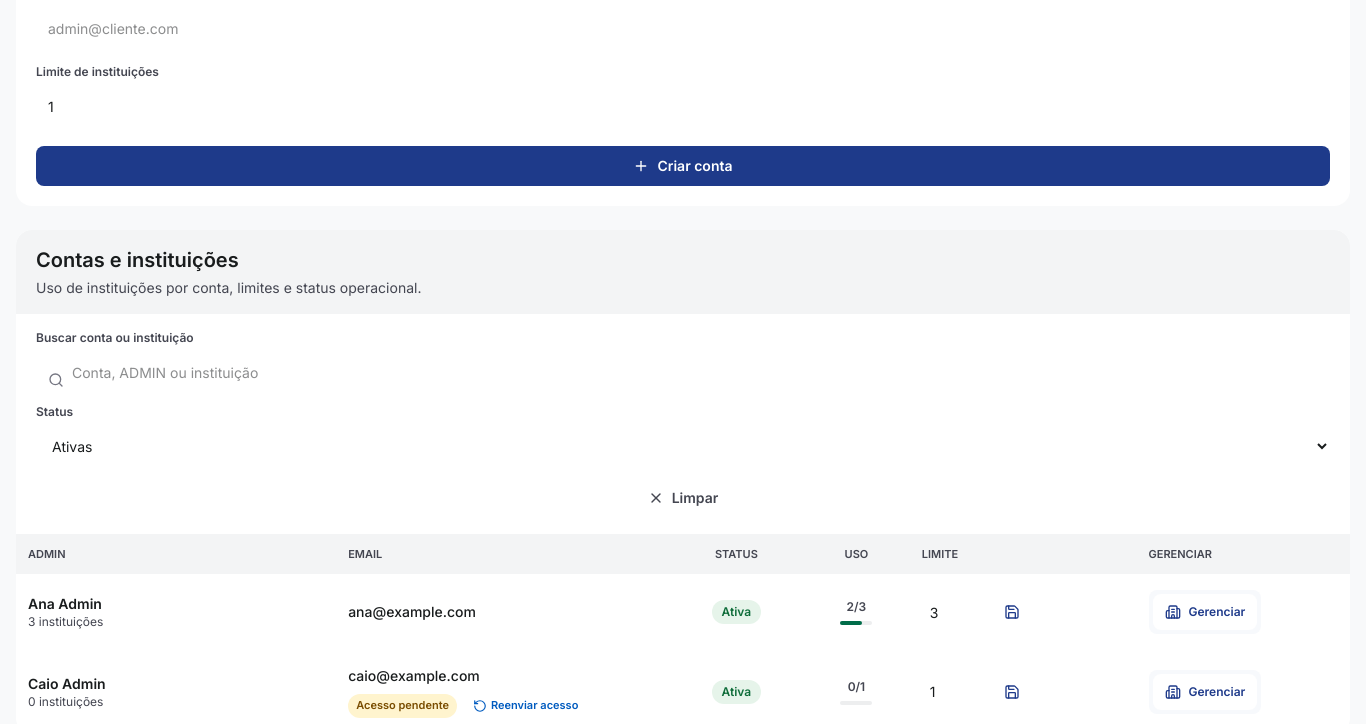
Test: PlatformPage › permite reenviar somente o acesso pendente sem criar outra conta
(page scrolled)
Click the button with aria-label "Reenviar acesso de Conta Gama" at (526, 706), box [465, 694, 586, 718]
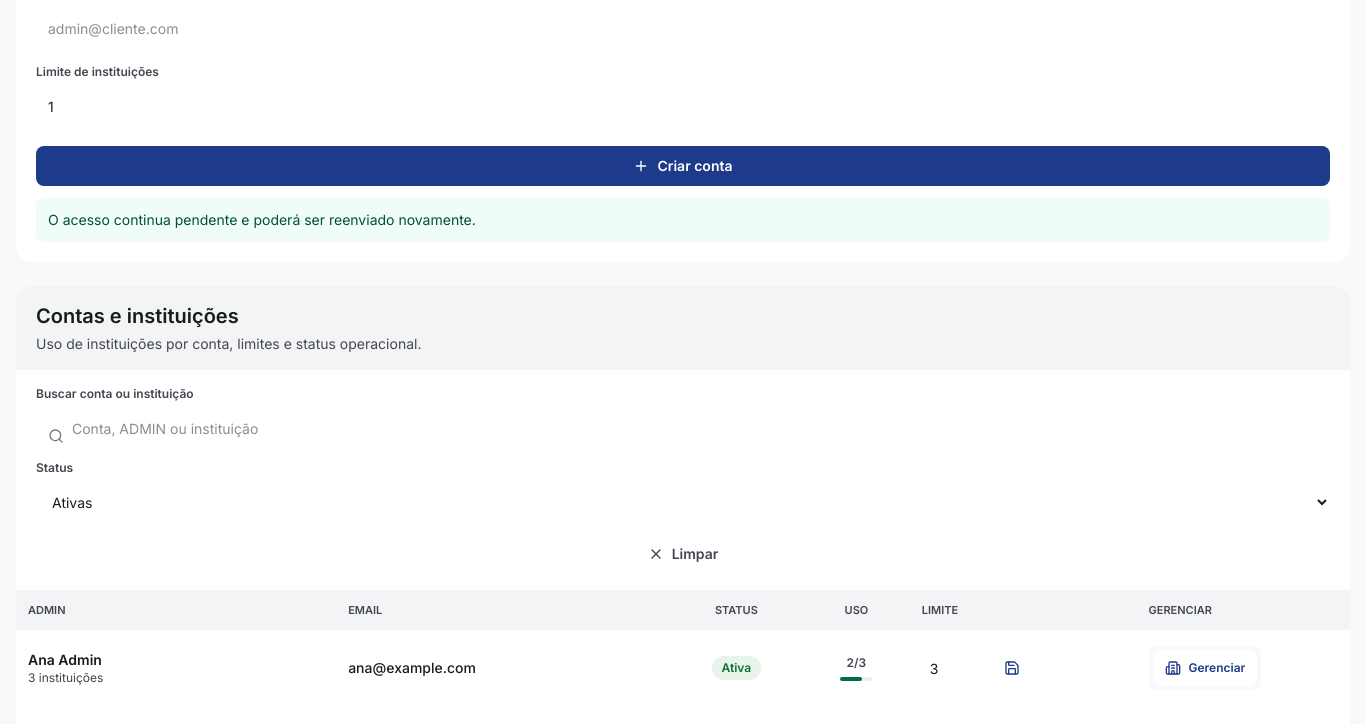
Check: the text "O acesso continua pendente e poderá ser reenviado novamente." is shown, box [36, 198, 1330, 242]
